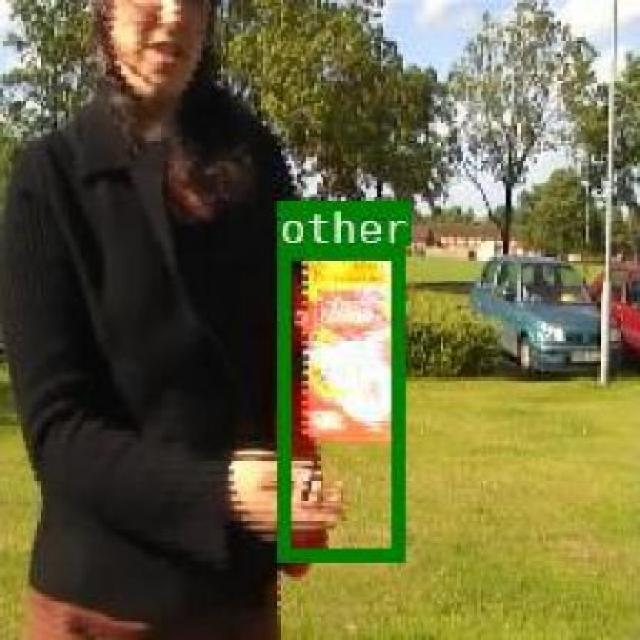other: (275, 244, 400, 558)
